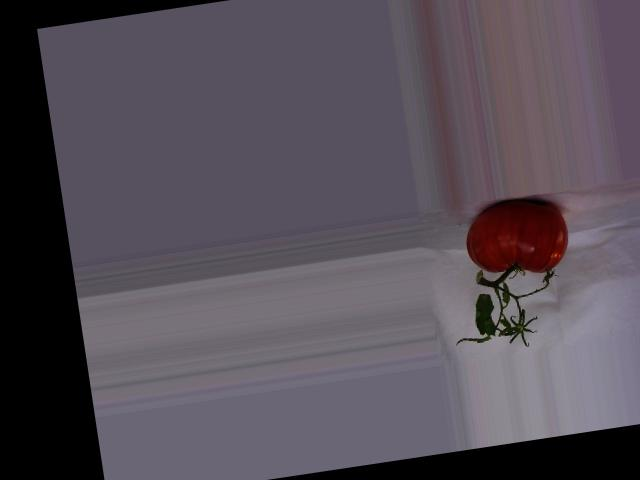tomato: (460, 192, 573, 282)
